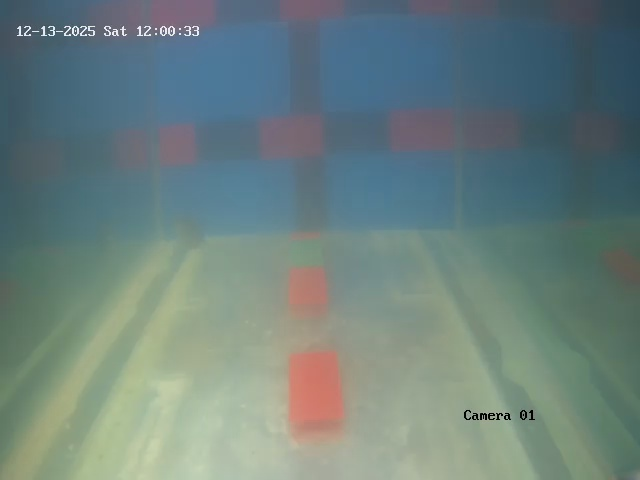fish: (154, 212, 213, 255)
